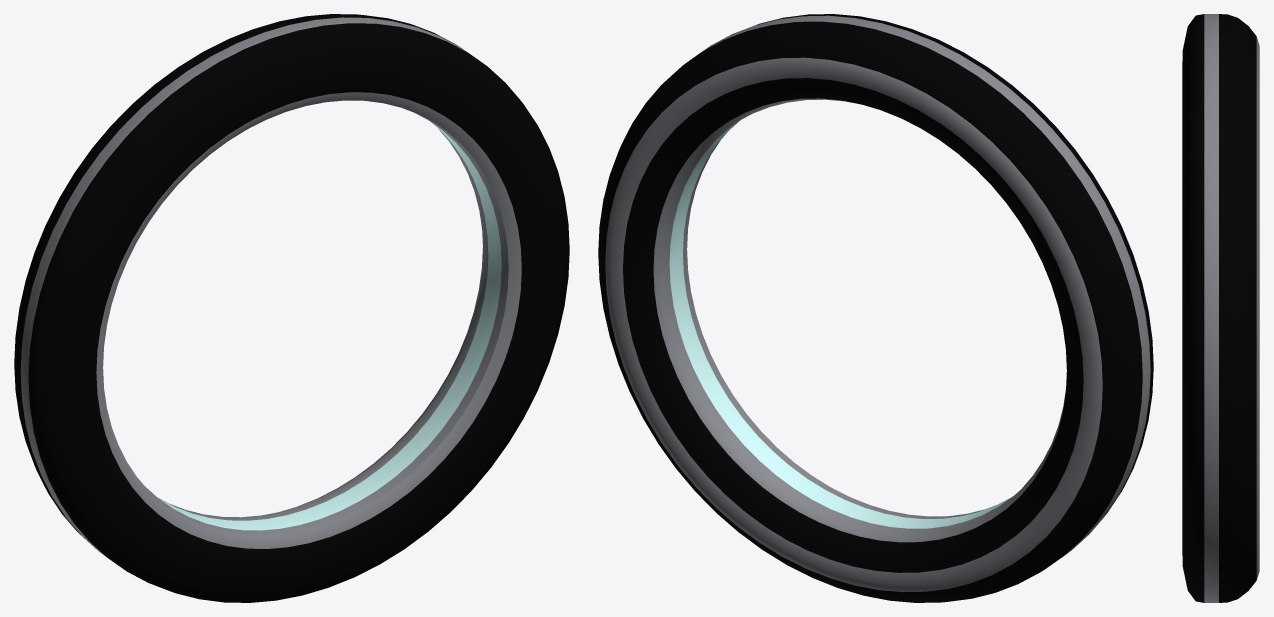
The model's file is PartBrokenWatch3.fbx.
3 views of the same model, side by side, from view 1: azimuth 30°, elevation 25°; view 2: azimuth 150°, elevation 25°; view 3: azimuth 270°, elevation 25° (orthographic). The views are drawn at different scales.
Visible parts, largest first — view 1: Watch.001; view 2: Watch.001; view 3: Watch.001.
Boxes of the visible parts, <box> form: Watch.001: <box>14,14,569,602</box>; Watch.001: <box>598,14,1153,602</box>; Watch.001: <box>1182,14,1259,602</box>.
Size of the model in its own units: 239 by 239 by 31.34.
